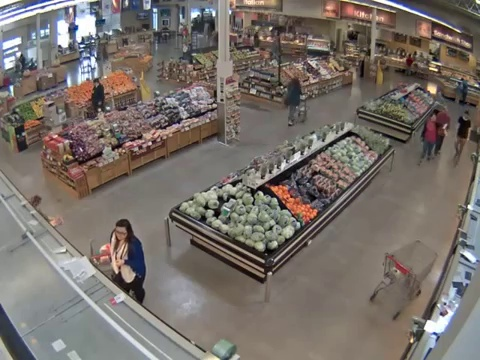face: (115, 228, 129, 242)
